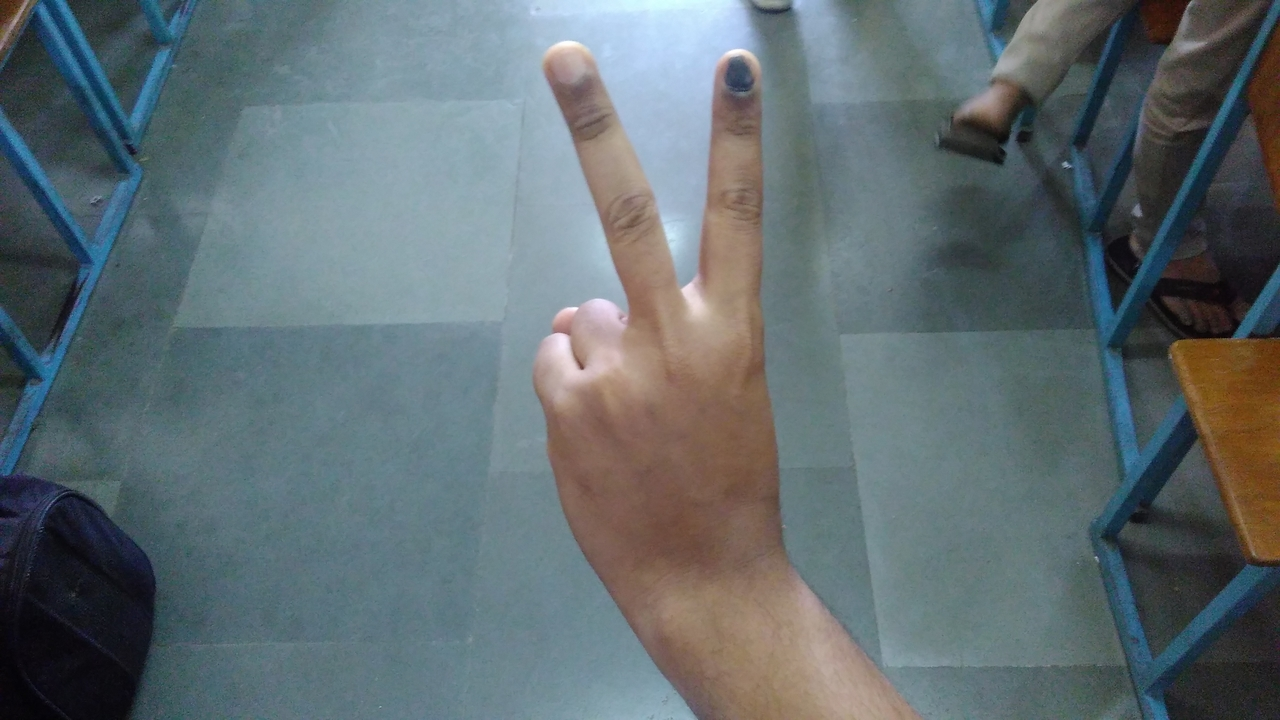fingertip: (536, 38, 600, 92), (710, 40, 766, 94)
